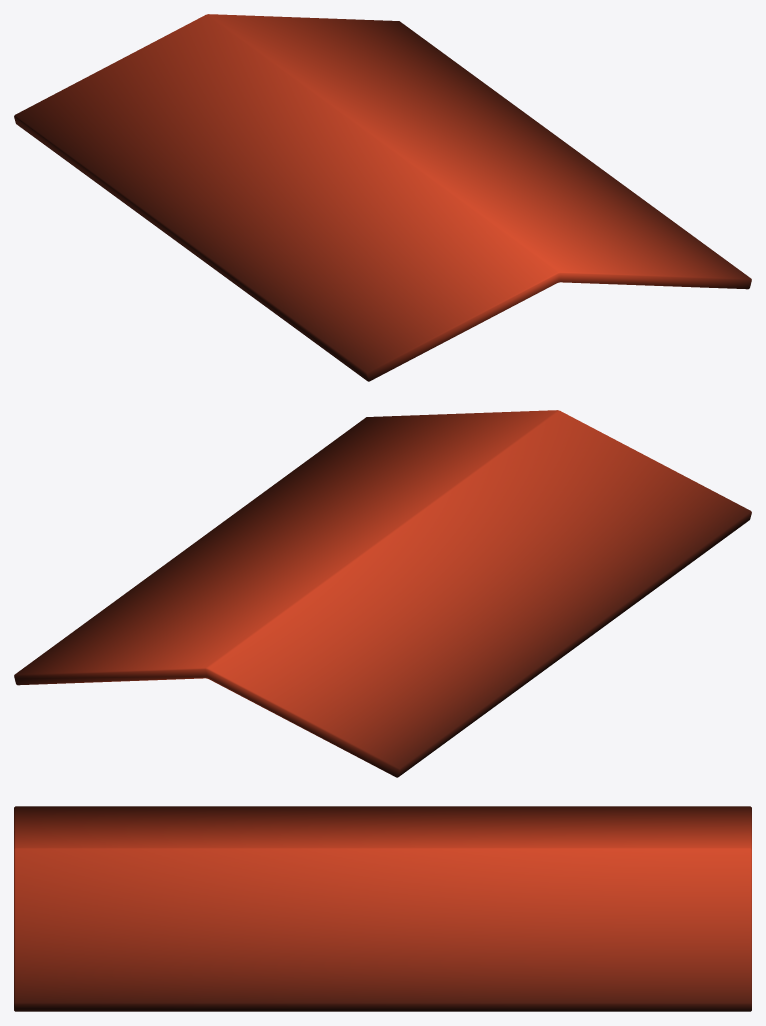
Rendered from roof.fbx.
The picture shows the model from 3 angles, top to bottom: view 1: azimuth 30°, elevation 25°; view 2: azimuth 150°, elevation 25°; view 3: azimuth 270°, elevation 25°; orthographic projection. The views are drawn at different scales.
Parts seen in each view (by area): view 1: matchsize24; view 2: matchsize24; view 3: matchsize24.
Part boxes in pixels (x1,y1,x2,y2): matchsize24: (14, 14, 751, 381); matchsize24: (14, 410, 751, 777); matchsize24: (14, 806, 751, 1011).
Bounding box in the file's own units: 480 × 75.75 × 760.
